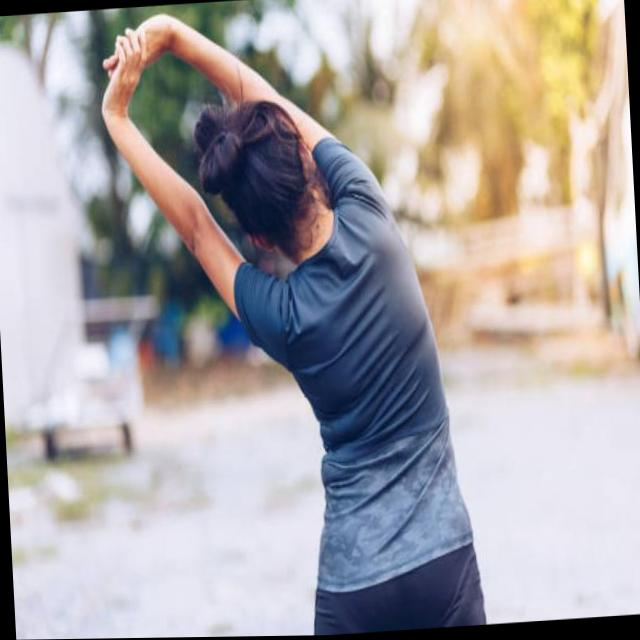no helmet: (198, 91, 330, 281)
